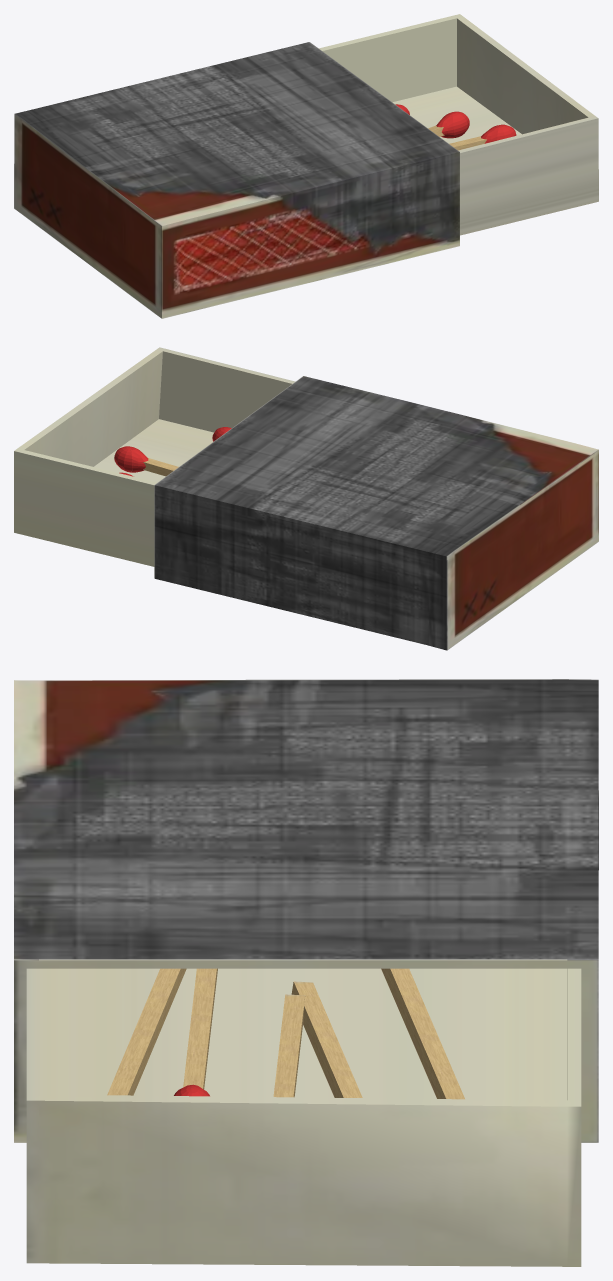
File: s_cerillas.glb
3 renders of one model, top to bottom at view 1: azimuth 30°, elevation 25°; view 2: azimuth 150°, elevation 25°; view 3: azimuth 270°, elevation 25°, orthographic. The views are drawn at different scales.
Parts seen in each view (by area): view 1: pCube11_lambert3_0; view 2: pCube11_lambert3_0; view 3: pCube11_lambert3_0.
Boxes of the visible parts, bbox=[...] form: pCube11_lambert3_0: bbox=[14, 14, 598, 318]; pCube11_lambert3_0: bbox=[14, 347, 598, 650]; pCube11_lambert3_0: bbox=[14, 679, 598, 1266].
Size of the model in its own units: 0.055 by 0.0112 by 0.0323.
5 materials, 5 textured.
